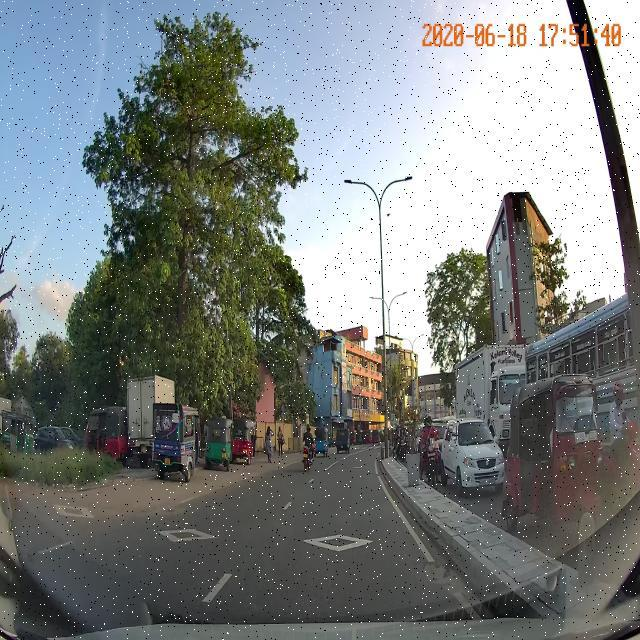diamond: (220, 515, 448, 575)
